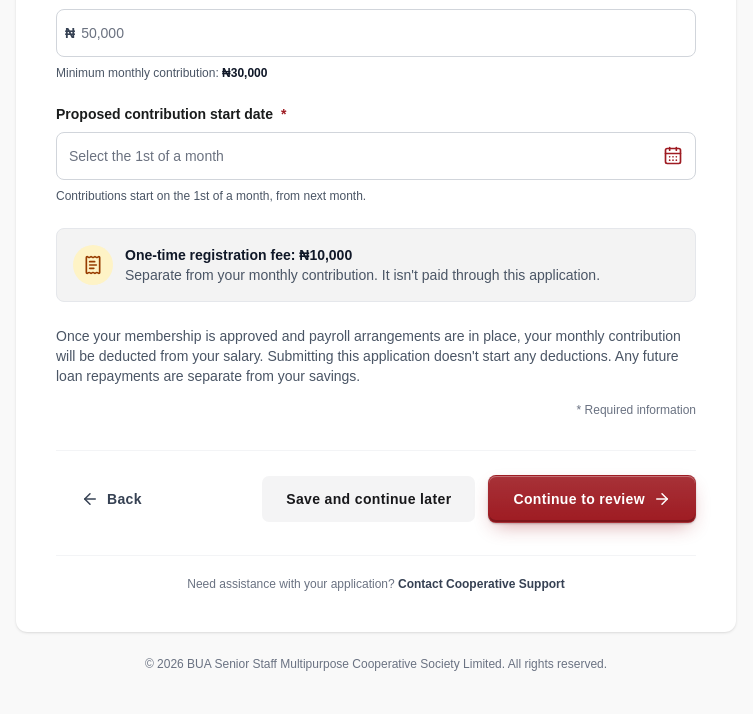
Test case: Contributions: saving › Continue requires both fields and sends nothing
(page scrolled)
Expected: the field labelled "Proposed monthly contribution *" is shown, left=75, top=10, right=695, bottom=56
Click the button "Continue to review": (592, 499) left=488, top=475, right=696, bottom=523
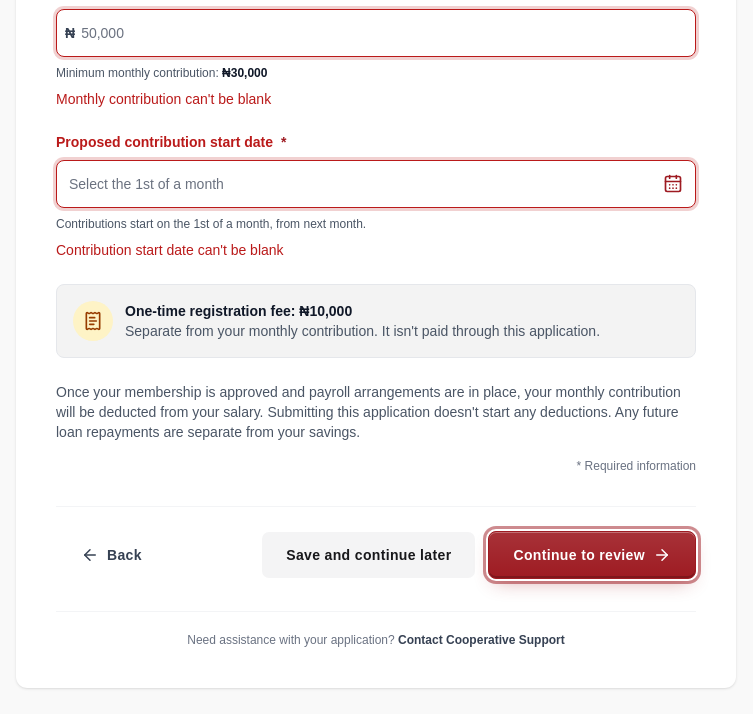
Now the text "Monthly contribution can't be blank" is shown, box left=56, top=91, right=271, bottom=107
Now the text "Contribution start date can't be blank" is shown, box left=56, top=242, right=284, bottom=258
